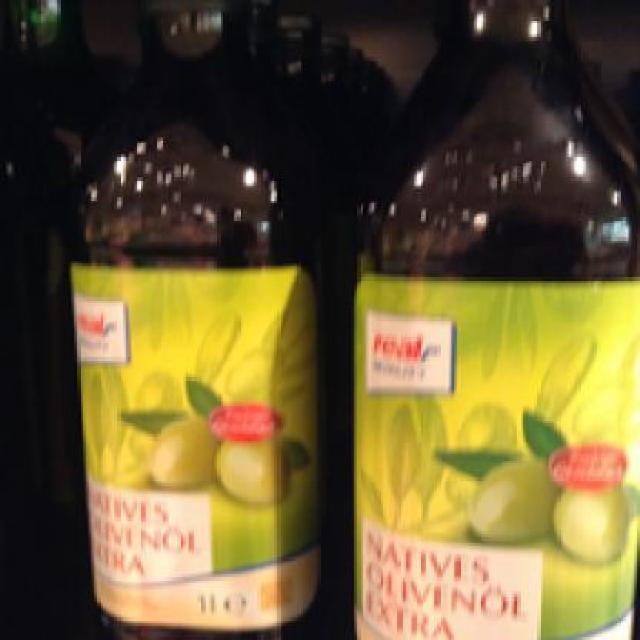Oil: (343, 0, 634, 637), (66, 0, 323, 637)
